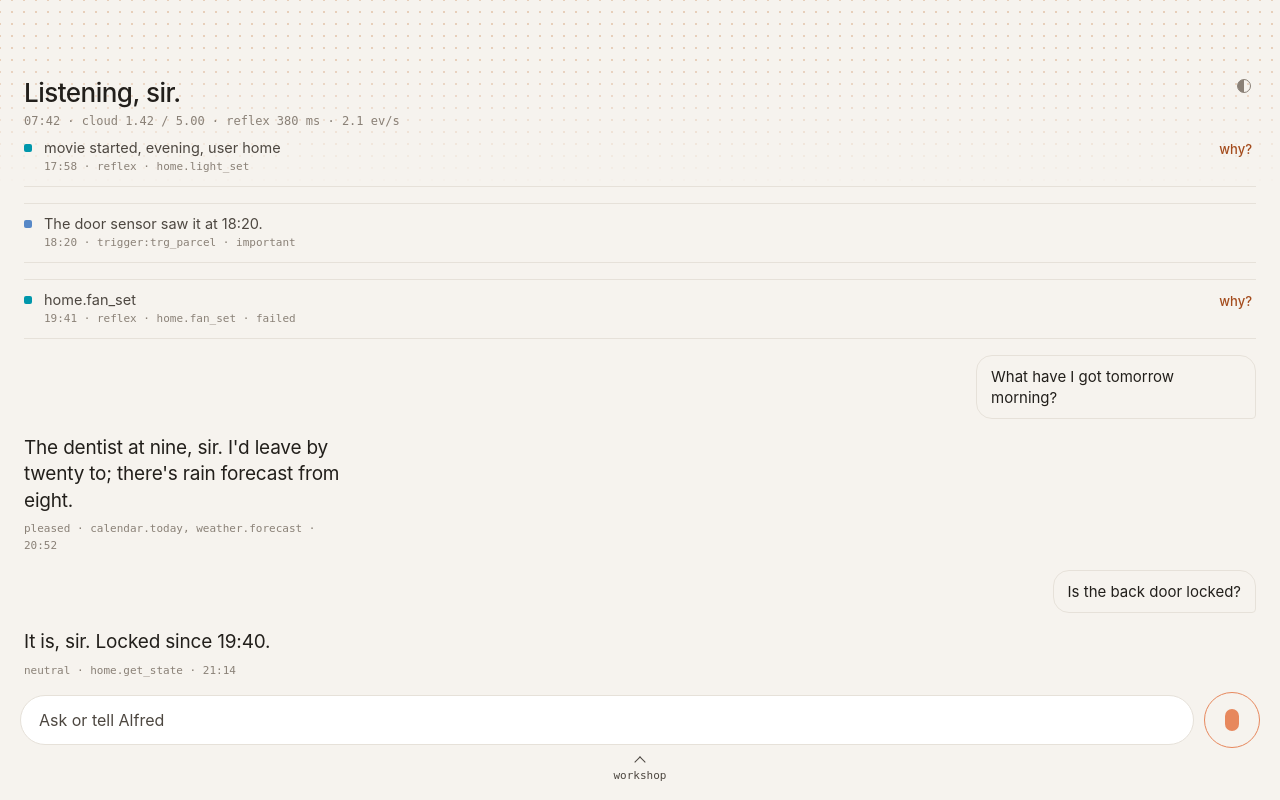
App › asks why on a reflex act row and sees the thread sheet
This screenshot has width=1280, height=800.
(page scrolled)
# Named for its row, so this needs no knowledge of ActRow's DOM.
Click the button with aria-label "movie started, evening, user home" at (1236, 150), box [1209,128,1262,172]
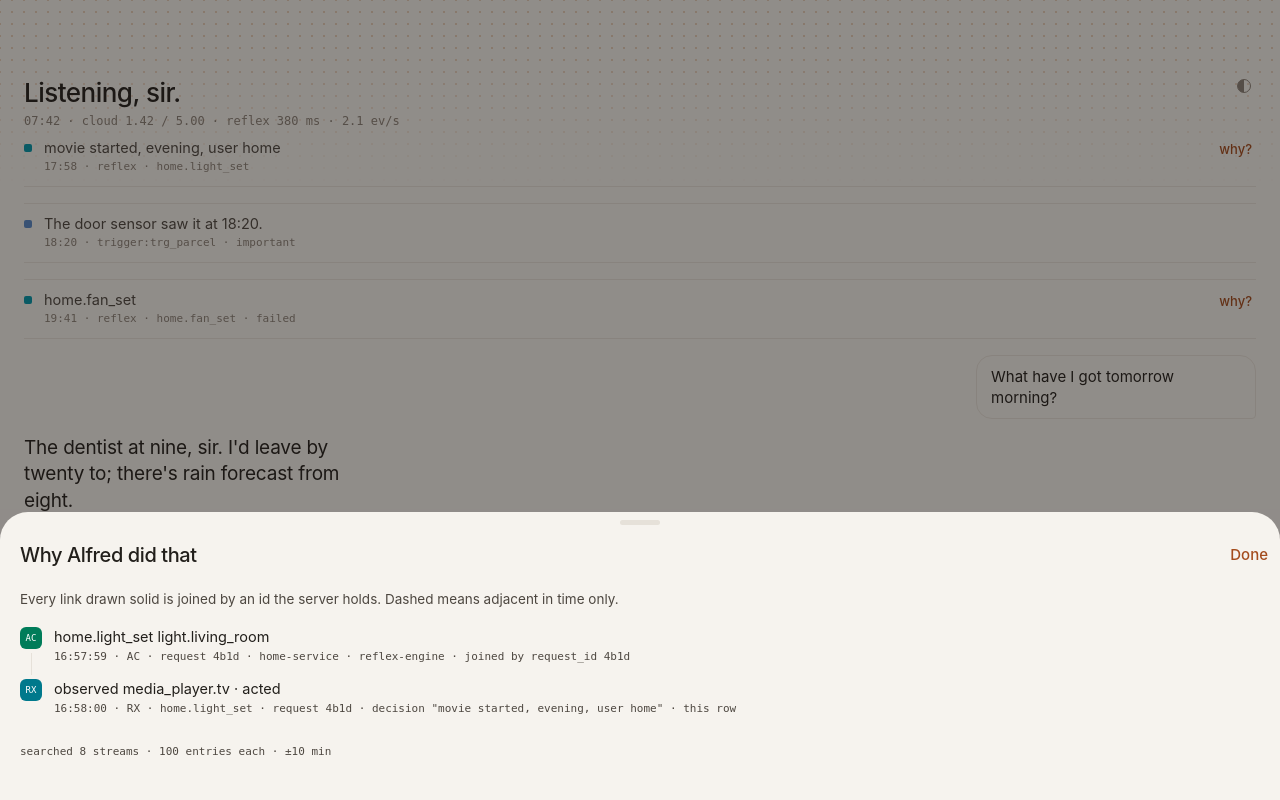
Expected: the text "observed media_player.tv · acted" is shown, [54,680,281,697]
Expected: the text "home.light_set light.living_room" is shown, [54,628,269,645]
Expected: the number of list items is 2, [20,627,630,663]; [20,679,736,715]
Click the button "Done" at (1246, 555), box [1224,533,1268,577]
Wait 380 ms
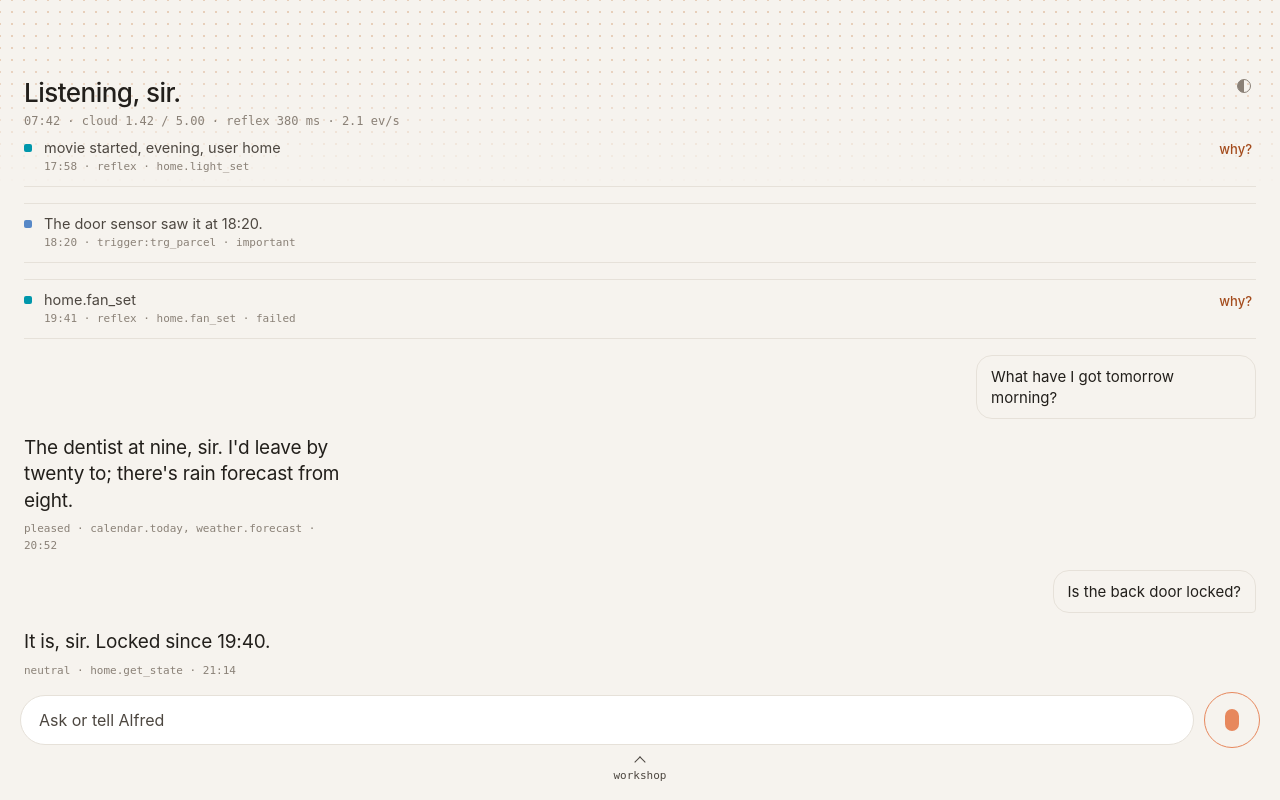
Expected: the heading "Why Alfred did that" is gone
